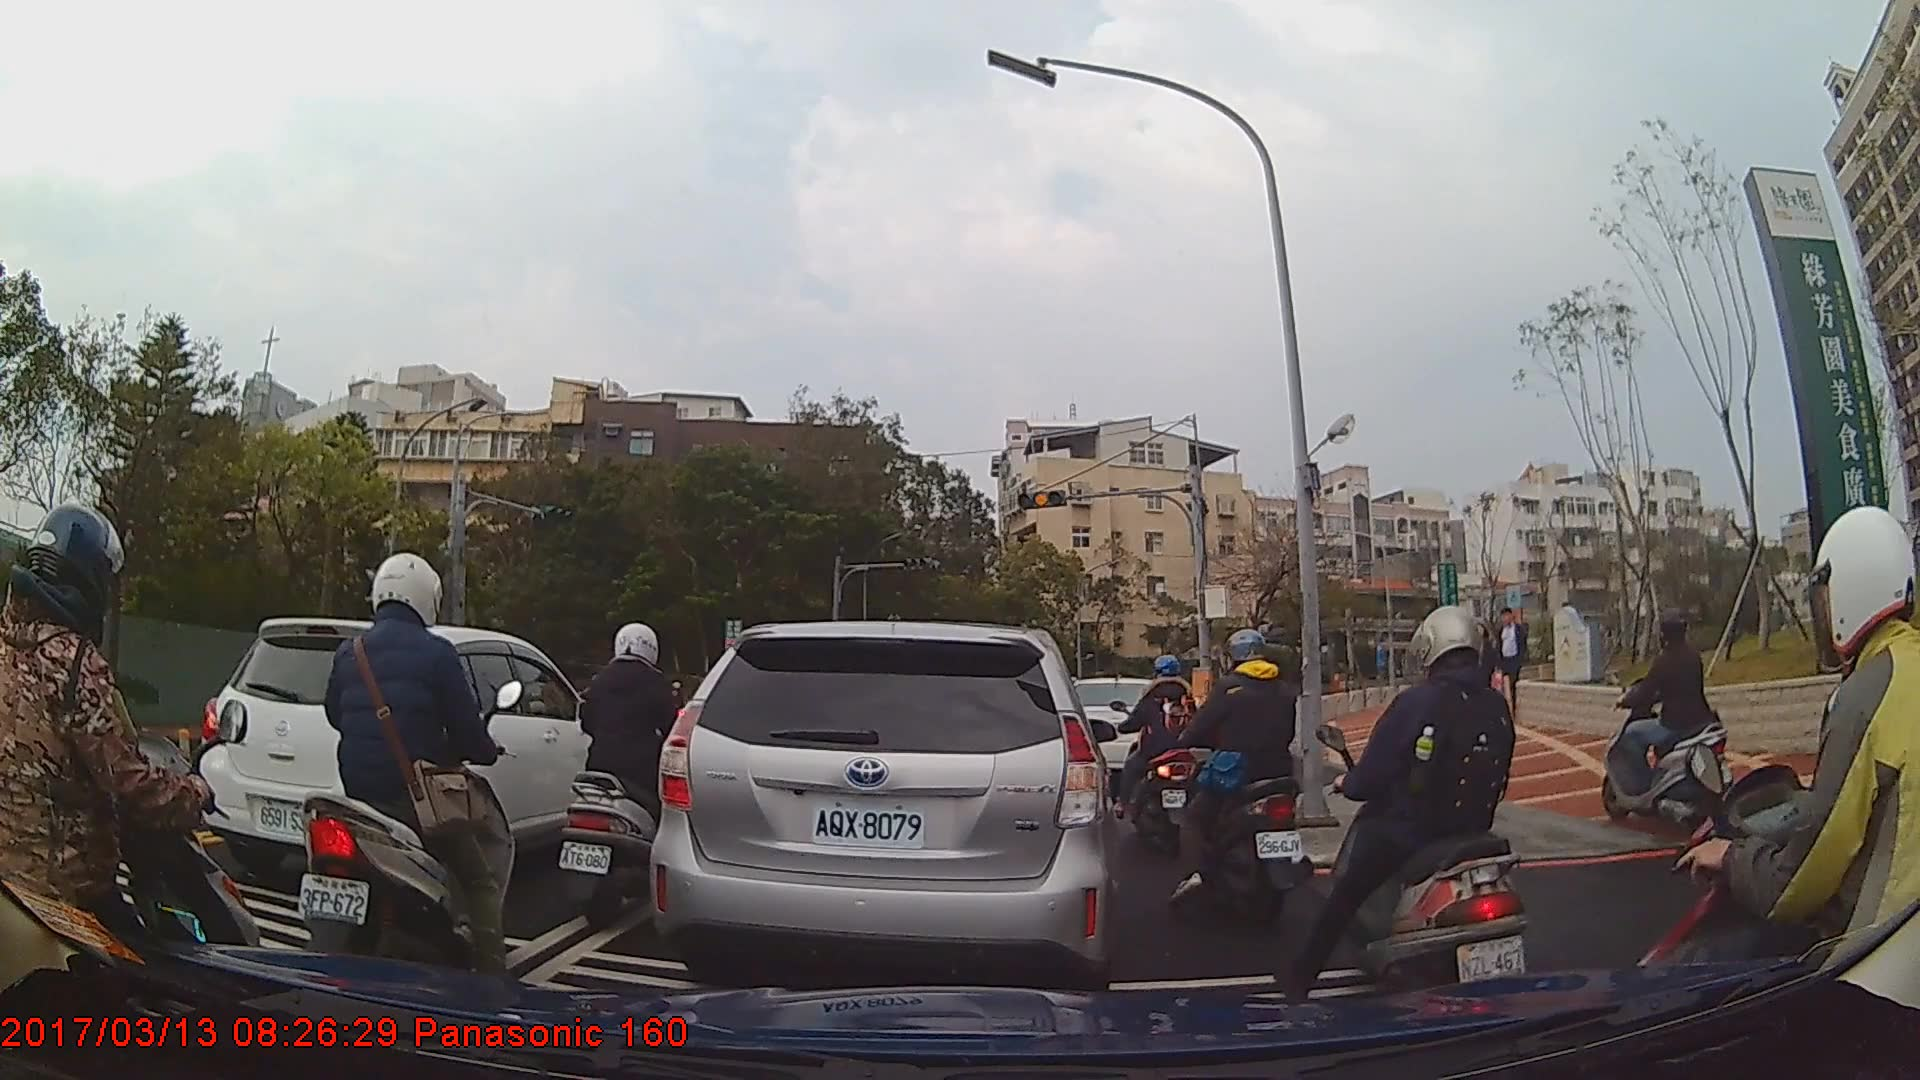pedestrian: (1492, 608, 1533, 719), (1466, 624, 1499, 717)
rider: (1623, 505, 1920, 1080), (1, 499, 263, 1057), (299, 545, 526, 1000), (1313, 604, 1540, 1022), (555, 624, 714, 934), (1169, 629, 1311, 925), (1602, 612, 1725, 839), (1111, 652, 1204, 857)
vehicle: (646, 620, 1116, 990), (198, 616, 627, 889), (1058, 675, 1166, 784)
